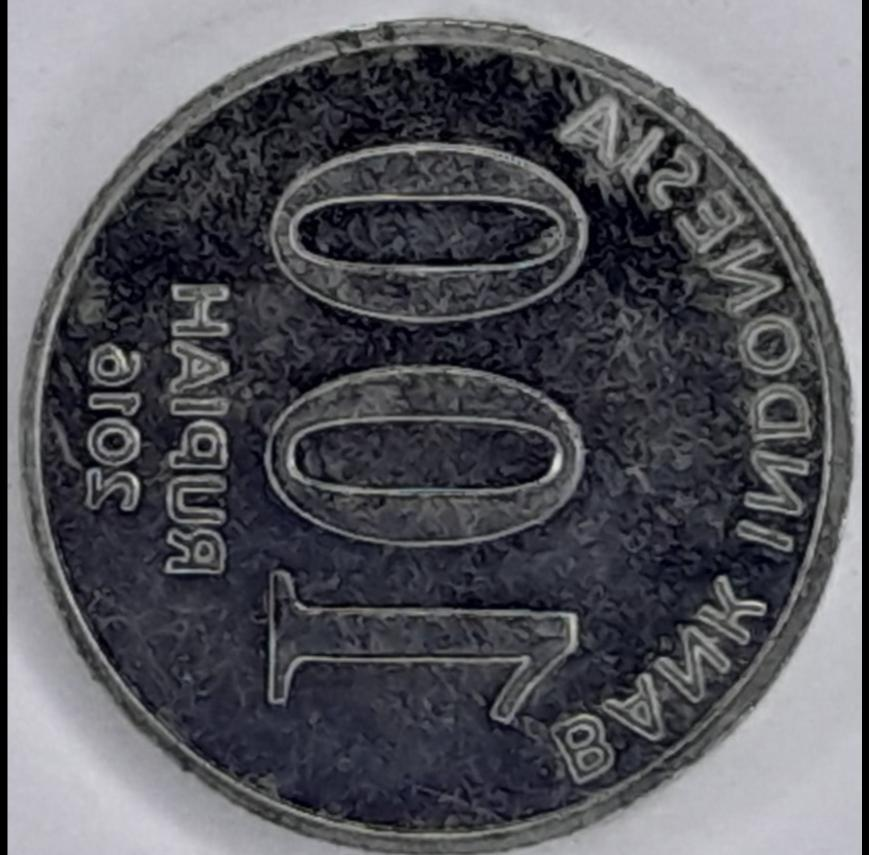coin_100_e2016: (16, 11, 856, 853)
